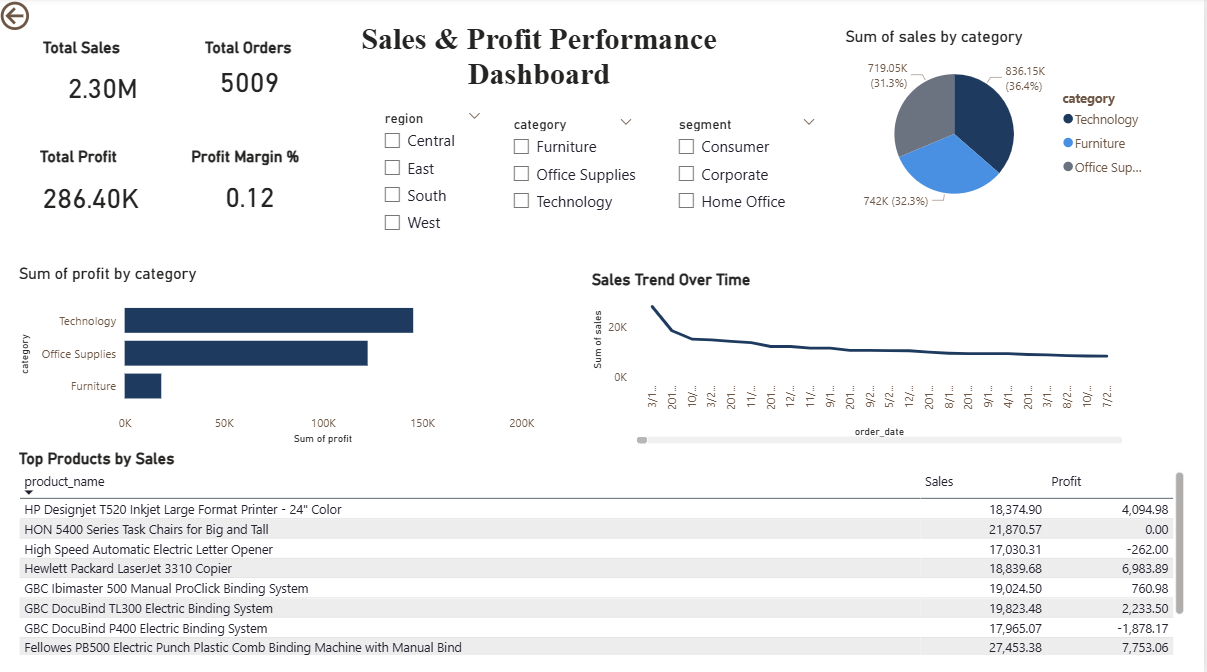

Layout of this report page (visuals, bound fields, positions):
{"tool":"powerbi","page":{"name":"Page 1","canvas":[1280,720],"ordinal":0},"visuals":[{"type":"card","title":"Total Sales","fields":{"Values":["Sum(sales_dashboard superstore_sales.sales)"]},"box":[44.5,42.9,136.8,84.3],"z":0},{"type":"card","title":"Total Profit","fields":{"Values":["Sum(sales_dashboard superstore_sales.profit)"]},"box":[41.4,159.1,117.7,85.9],"z":1000},{"type":"card","title":"Total Orders","fields":{"Values":["Count(sales_dashboard superstore_sales.order_id)"]},"box":[216.3,42.9,103.4,71.6],"z":2000},{"type":"card","title":"Profit Margin %","fields":{"Values":["sales_dashboard superstore_sales.Profit Margin %"]},"box":[202,159.1,133.6,84.3],"z":3000},{"type":"barChart","fields":{"Category":["sales_dashboard superstore_sales.category"],"Y":["Sum(sales_dashboard superstore_sales.profit)"]},"box":[19.1,283.1,556.7,195.6],"z":4000},{"type":"lineChart","title":"Sales Trend Over Time","fields":{"Y":["Sum(sales_dashboard superstore_sales.sales)"],"Category":["sales_dashboard superstore_sales.order_date"]},"box":[626.7,289.5,572.6,189.3],"z":5000},{"type":"actionButton","box":[0,0,100,40],"z":6000},{"type":"slicer","fields":{"Values":["sales_dashboard superstore_sales.region"]},"box":[399.2,114.5,127.2,147.9],"z":7000},{"type":"slicer","fields":{"Values":["sales_dashboard superstore_sales.category"]},"box":[536,120.9,151.1,124.1],"z":8000},{"type":"slicer","fields":{"Values":["sales_dashboard superstore_sales.segment"]},"box":[711,120.9,170.2,136.8],"z":9000},{"type":"tableEx","title":"Top Products by Sales","fields":{"Values":["sales_dashboard superstore_sales.product_name","Sum(sales_dashboard superstore_sales.sales)","Sum(sales_dashboard superstore_sales.profit)"]},"box":[19.1,478.8,1245.4,222.7],"z":10000},{"type":"pieChart","fields":{"Category":["sales_dashboard superstore_sales.category"],"Y":["Sum(sales_dashboard superstore_sales.sales)"]},"box":[895.5,31.8,340.4,206.8],"z":11000},{"type":"textbox","box":[335.6,20.7,480.4,93.8],"z":12000}]}

Visuals, with their boxes in screenshot pixels (x1, y1, x2, y2), scaled from the page's 1280x720 canvas onto the 1207x672 screenshot:
"Total Sales" card: (42,40,171,119)
"Total Profit" card: (39,148,150,229)
"Total Orders" card: (204,40,301,107)
"Profit Margin %" card: (190,148,316,227)
barChart - sales_dashboard superstore_sales.category x Sum(sales_dashboard superstore_sales.profit): (18,264,543,447)
"Sales Trend Over Time" lineChart: (591,270,1131,447)
actionButton: (0,0,94,37)
slicer - sales_dashboard superstore_sales.region: (376,107,496,245)
slicer - sales_dashboard superstore_sales.category: (505,113,648,229)
slicer - sales_dashboard superstore_sales.segment: (670,113,831,241)
"Top Products by Sales" tableEx: (18,447,1192,655)
pieChart - sales_dashboard superstore_sales.category x Sum(sales_dashboard superstore_sales.sales): (844,30,1165,223)
textbox: (316,19,769,107)
